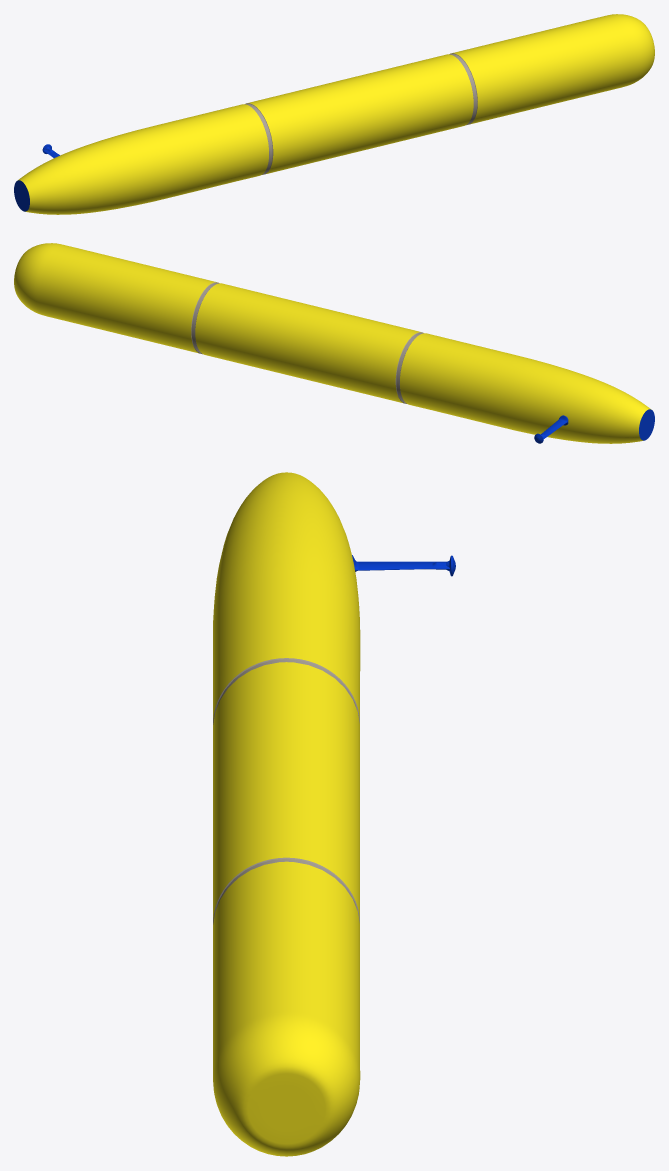
The model's file is AUV_BODY.gltf.
The picture shows the model from 3 angles, top to bottom: view 1: azimuth 30°, elevation 25°; view 2: azimuth 150°, elevation 25°; view 3: azimuth 270°, elevation 25°; orthographic projection. The views are drawn at different scales.
Parts seen in each view (by area): view 1: AUV_BODY; view 2: AUV_BODY; view 3: AUV_BODY.
Boxes of the visible parts, bbox=[...] form: AUV_BODY: bbox=[14, 14, 654, 214]; AUV_BODY: bbox=[14, 243, 654, 443]; AUV_BODY: bbox=[213, 472, 455, 1156].
Bounding box in the file's own units: 5.21 × 0.5334 × 0.8805.
